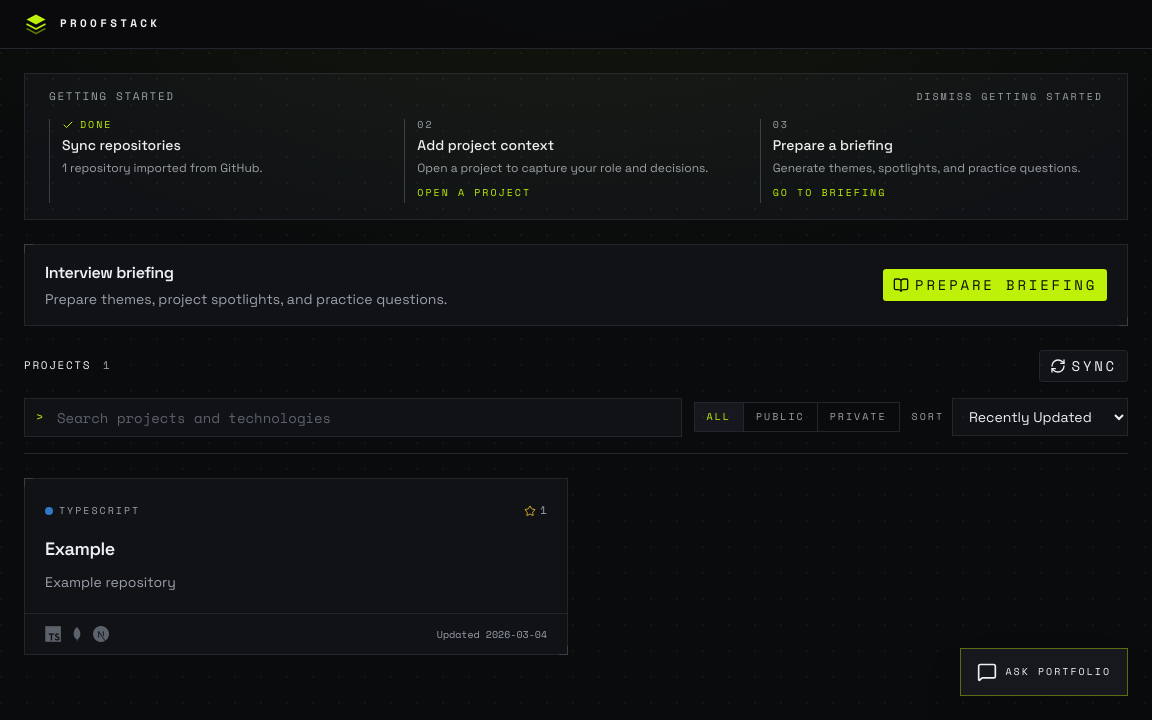
refreshes server data after a successful sync and reports the count
Click the button with aria-label "Sync GitHub": (1083, 366) [1038, 350, 1128, 382]
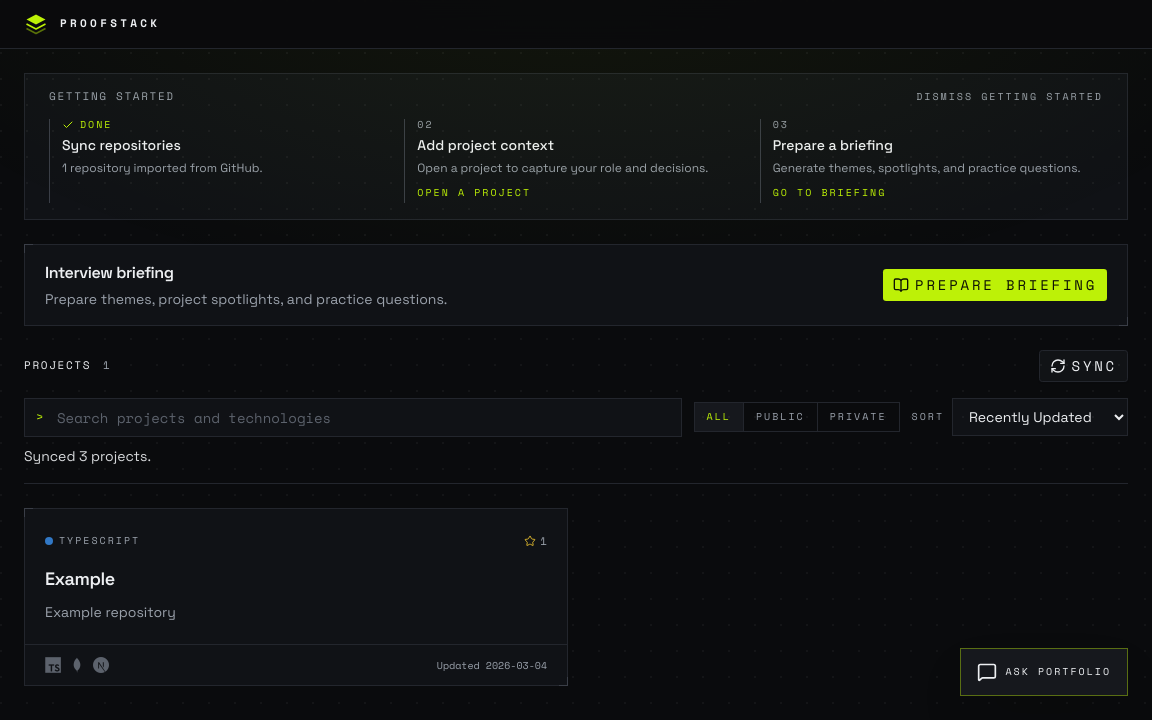
Result: the message reads "Synced 3 projects." at [24, 447, 151, 465]
